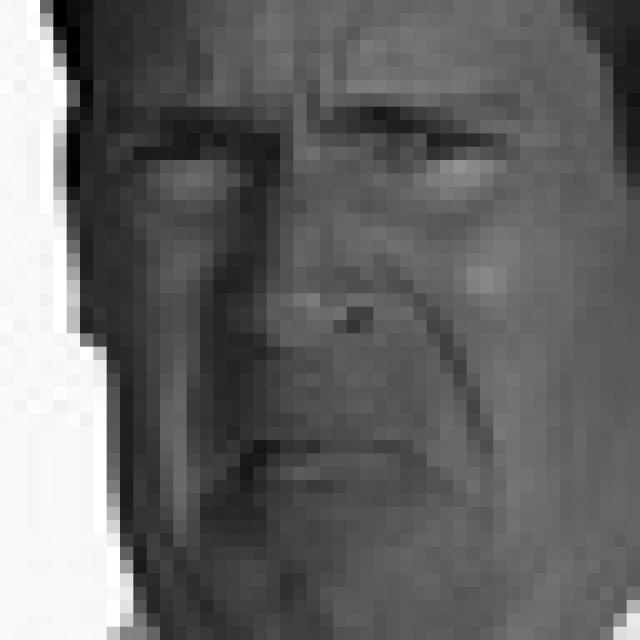disgust: (114, 26, 557, 596)
